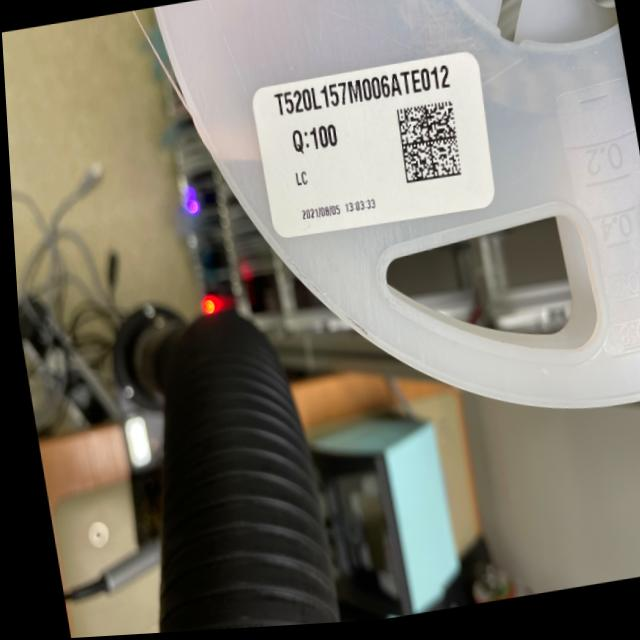datamatrix: (391, 102, 465, 196)
